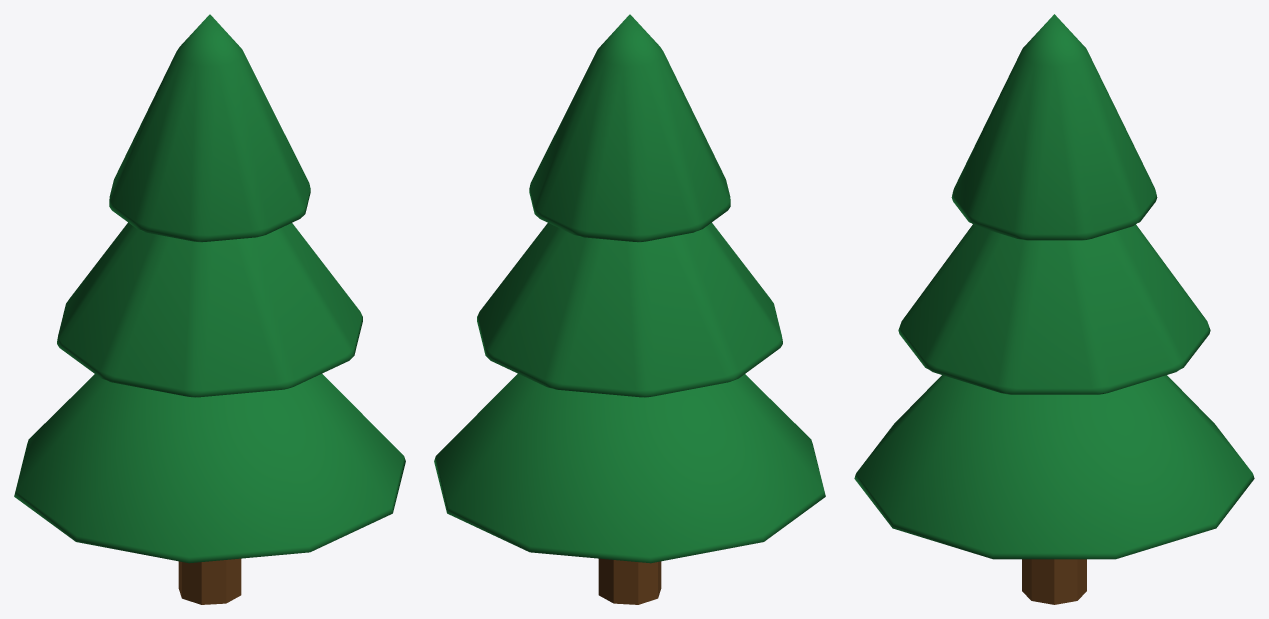
File: tree_pine.glb
3 views of the same model, side by side, from view 1: azimuth 30°, elevation 25°; view 2: azimuth 150°, elevation 25°; view 3: azimuth 270°, elevation 25° (orthographic).
Visible parts, largest first — view 1: tree_pine; view 2: tree_pine; view 3: tree_pine.
Part boxes in pixels (x1,y1,x2,y2): tree_pine: [14, 14, 405, 604]; tree_pine: [434, 14, 825, 604]; tree_pine: [854, 14, 1254, 604].
Bounding box in the file's own units: 0.7038 × 1.18 × 0.74.
